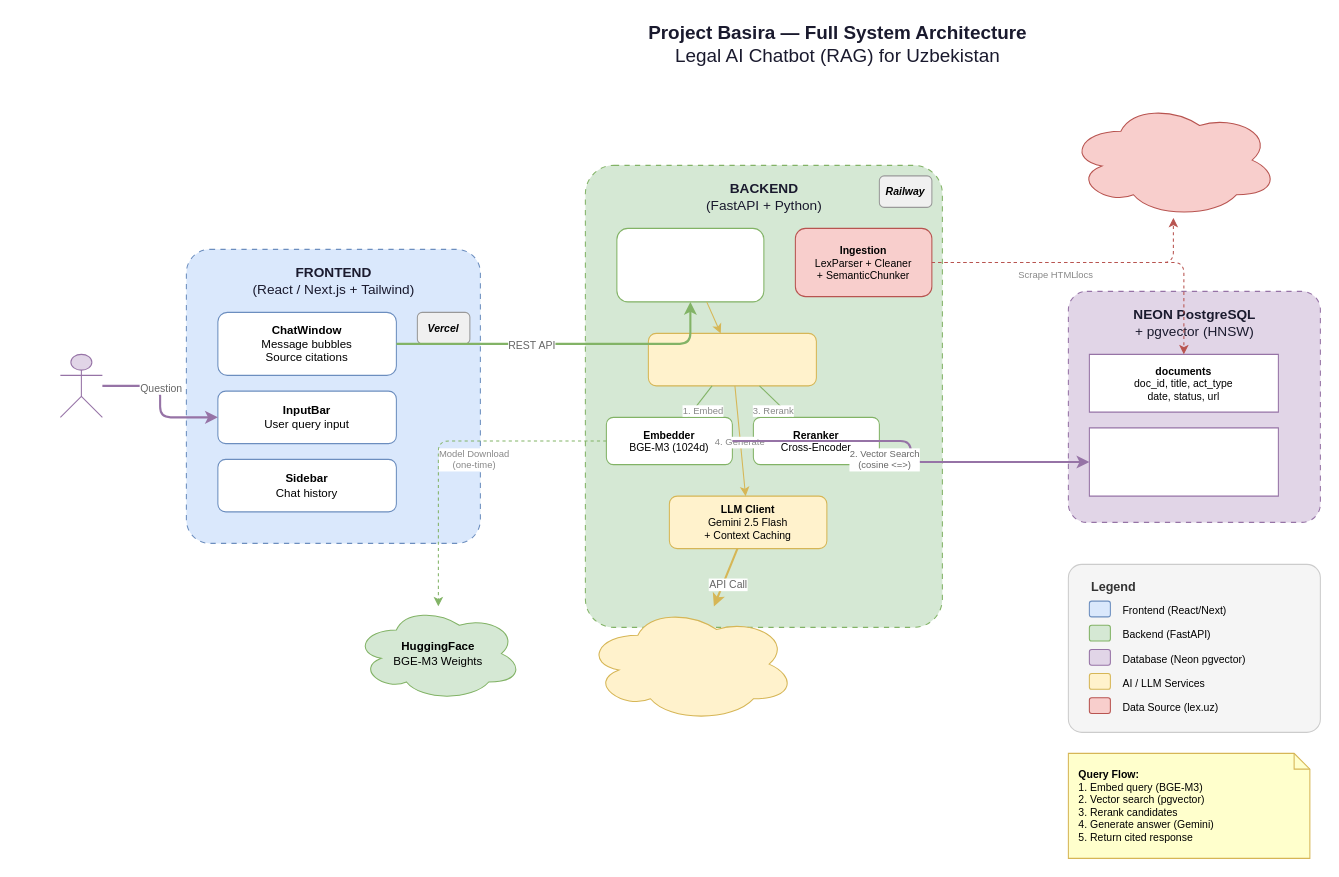
This 1339x877 diagram has some shape labels left out. Here are the shapes that lost their labels. From the top down, the centre of each, then its label:
At pixel 1172 159: "lex.uz Uzbekistan Legal DB (Laws, Codes, Decrees)".
At pixel 690 264: "API Routes /api/chat /api/ingest /api/health".
At pixel 731 359: "RAG Pipeline Orchestrator".
At pixel 80 385: "User (Uzbek Citizen / Lawyer)".
At pixel 1183 461: "chunks chunk_id, doc_id FK text, embedding (1024d) metadata (JSONB)".
At pixel 689 663: "Google AI API Gemini 2.5 Flash Context Caching".
